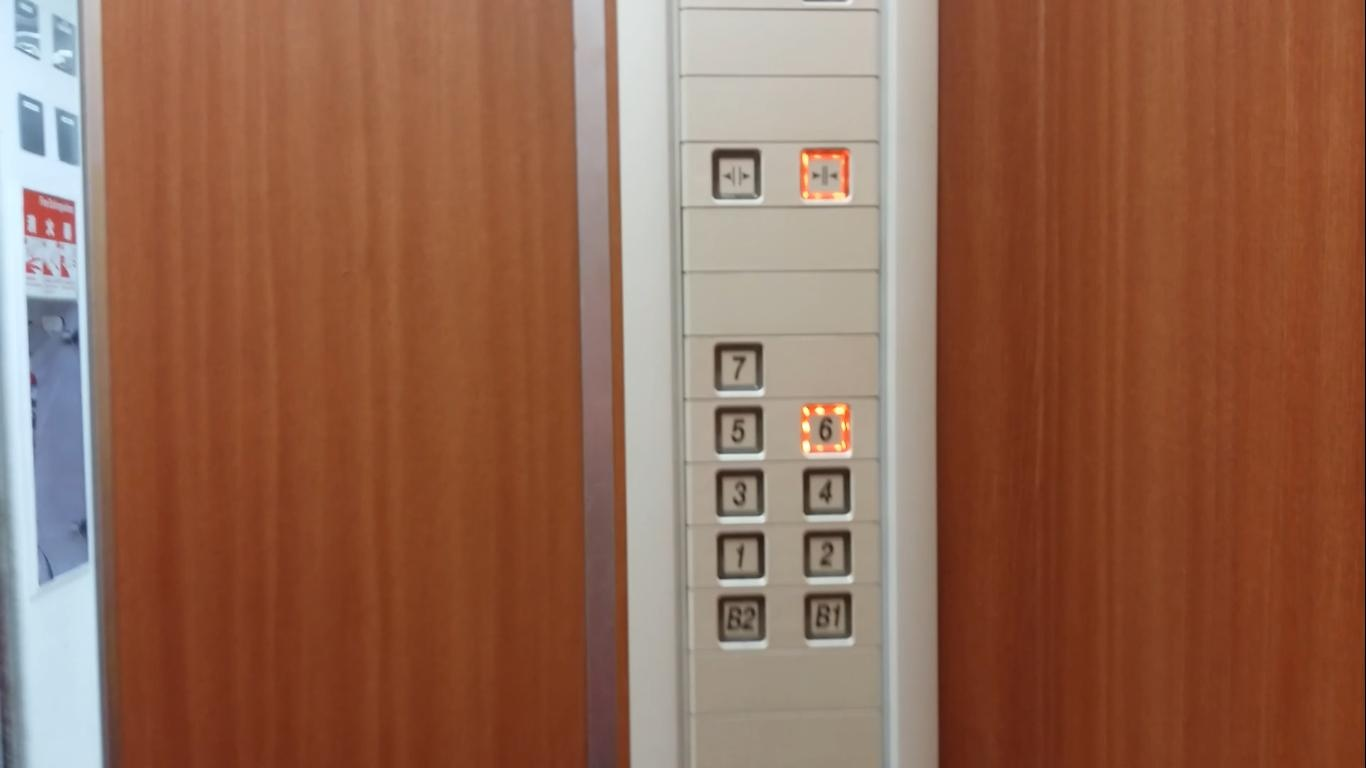1: (712, 528, 770, 586)
2: (800, 527, 855, 584)
3: (712, 465, 769, 521)
4: (798, 462, 856, 519)
5: (710, 403, 770, 459)
6: (796, 400, 854, 459)
7: (709, 339, 769, 398)
B1: (801, 589, 857, 645)
B2: (714, 591, 770, 648)
close: (798, 144, 852, 206)
open: (709, 145, 764, 204)
